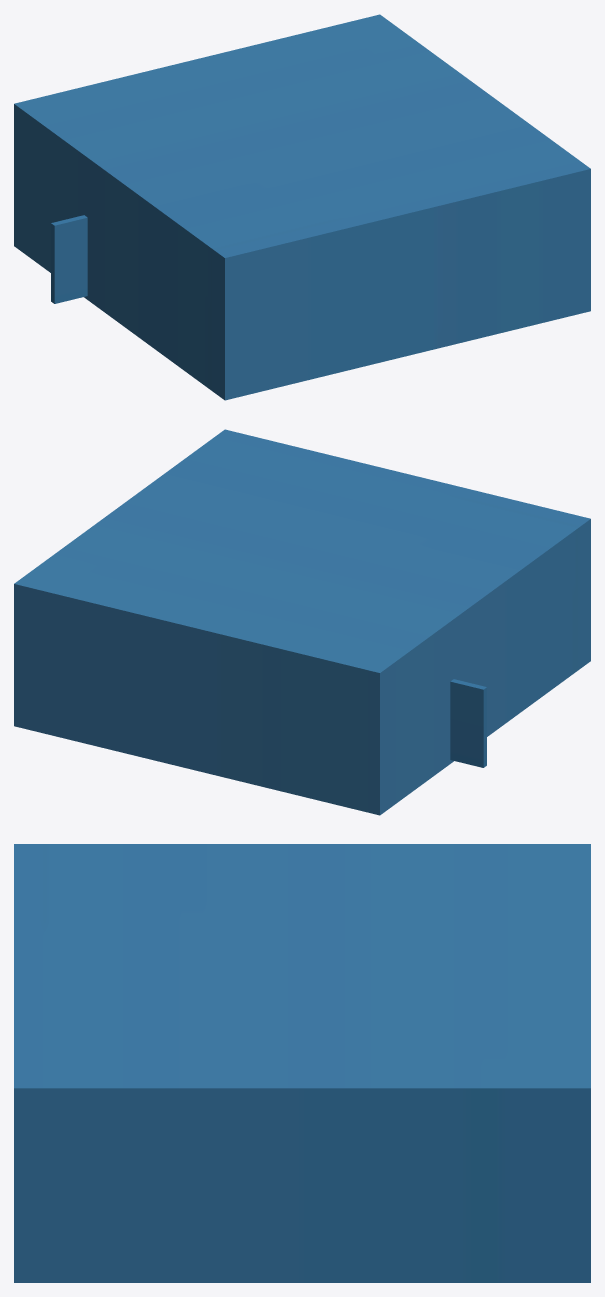
File: Janitor floor .glb
3 renders of one model, top to bottom at view 1: azimuth 30°, elevation 25°; view 2: azimuth 150°, elevation 25°; view 3: azimuth 270°, elevation 25°, orthographic. The views are drawn at different scales.
Parts seen in each view (by area): view 1: Walls.002, Cubic walls side.003; view 2: Walls.002, Cubic walls side.003; view 3: Walls.002.
Boxes of the visible parts, x1=… form: Walls.002: x1=14, y1=14, x2=590, y2=400; Cubic walls side.003: x1=51, y1=215, x2=87, y2=303; Walls.002: x1=14, y1=429, x2=590, y2=815; Cubic walls side.003: x1=450, y1=679, x2=486, y2=767; Walls.002: x1=14, y1=844, x2=590, y2=1282.
Size of the model in its own units: 37.06 by 12.63 by 33.92.
Materials: 28 (26 with a texture image).
